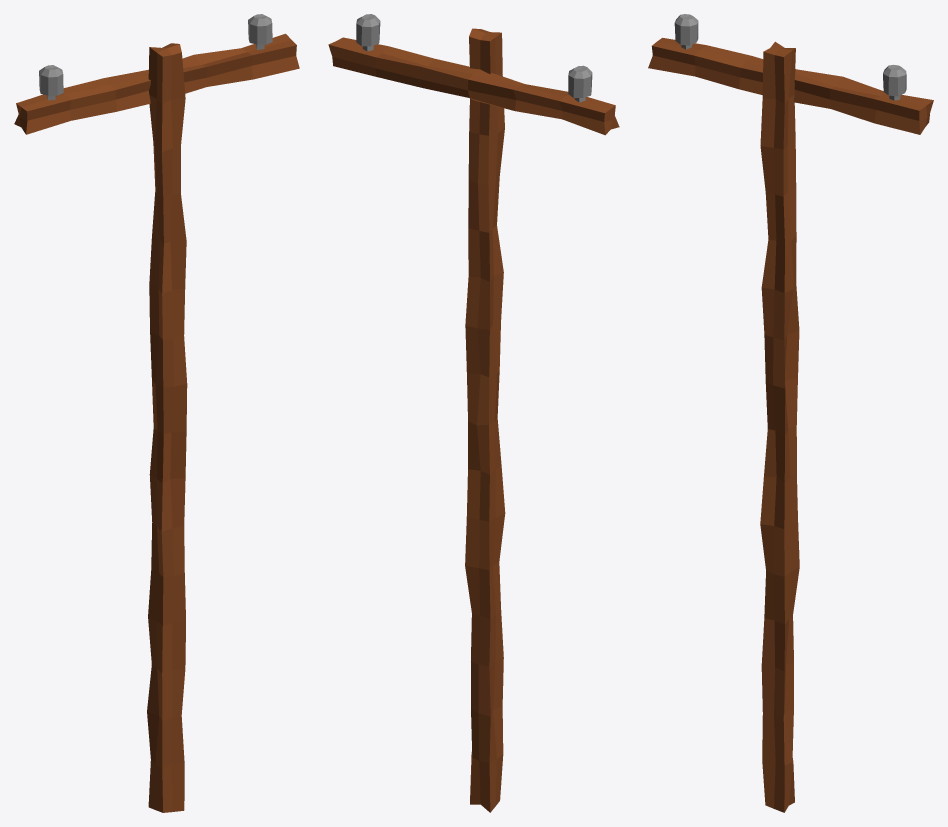
Rendered from Стовп.fbx.
3 renders of one model, left to right at view 1: azimuth 30°, elevation 25°; view 2: azimuth 150°, elevation 25°; view 3: azimuth 330°, elevation 25°, orthographic.
Visible parts, largest first — view 1: Куб.093, Куб.095, Куб.096; view 2: Куб.093, Куб.095, Куб.096; view 3: Куб.093, Куб.095, Куб.096.
Part boxes in pixels (box(x1,y1,x2,y2)): Куб.093: box(14, 33, 299, 812); Куб.095: box(248, 14, 272, 49); Куб.096: box(39, 65, 63, 100); Куб.093: box(328, 28, 619, 812); Куб.095: box(356, 14, 380, 51); Куб.096: box(568, 65, 592, 102); Куб.093: box(648, 37, 933, 812); Куб.095: box(883, 64, 906, 100); Куб.096: box(674, 14, 698, 49).
Bounding box in the file's own units: 1039 × 2764 × 170.
